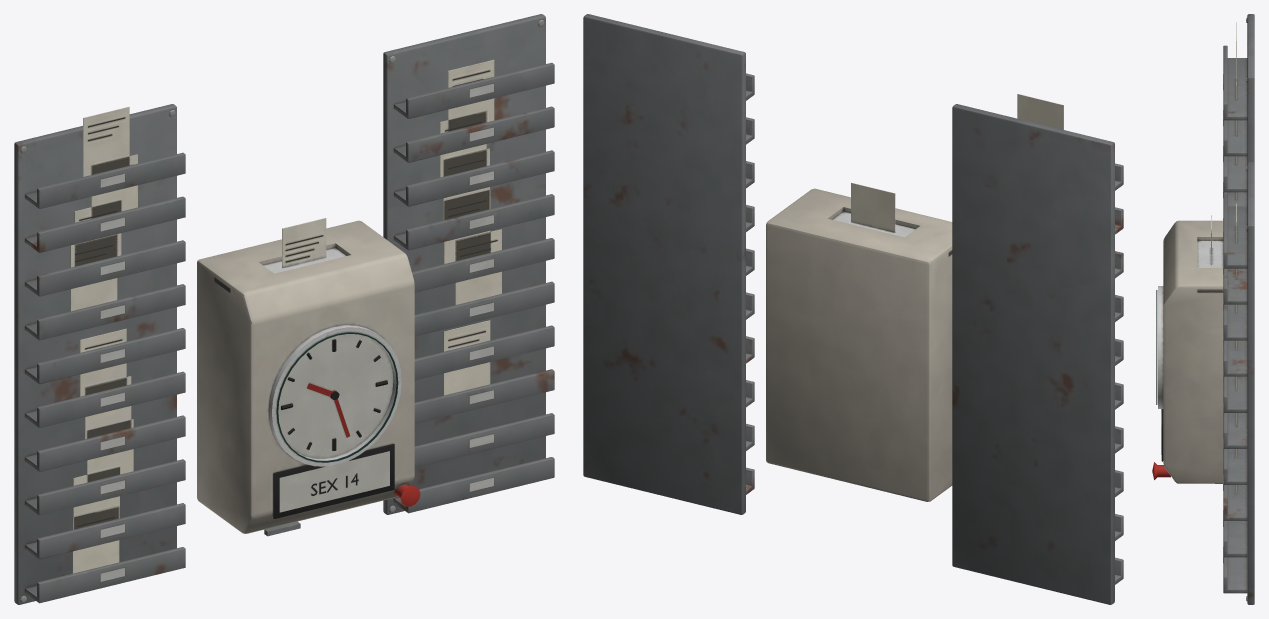
File: relogio_ponto.glb
The picture shows the model from 3 angles, left to right: view 1: azimuth 30°, elevation 25°; view 2: azimuth 150°, elevation 25°; view 3: azimuth 270°, elevation 25°; orthographic projection. The views are drawn at different scales.
Visible parts, largest first — view 1: relogio; view 2: relogio; view 3: relogio.
Part boxes in pixels (<box>): relogio: <box>14,14,554,604</box>; relogio: <box>583,14,1123,604</box>; relogio: <box>1152,14,1254,604</box>.
Size of the model in its own units: 0.96 by 0.8304 by 0.196.
Materials: 1 (1 with a texture image).
